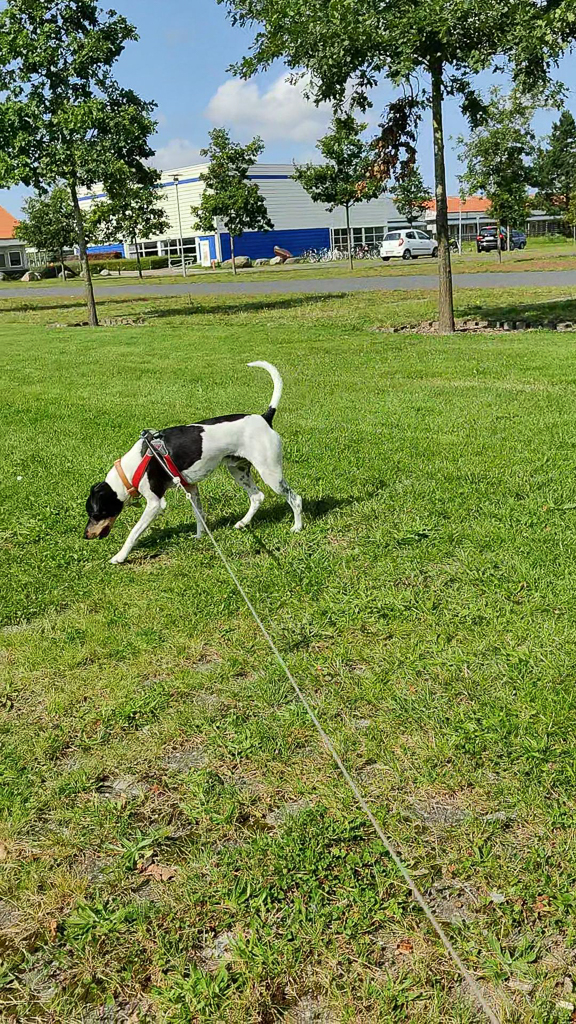Dog: (69, 349, 313, 577)
